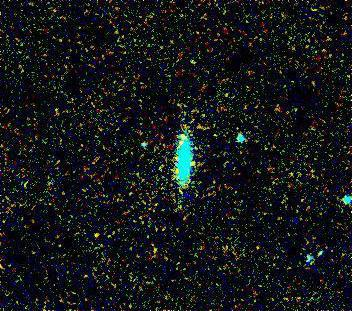star: (175, 153, 205, 183)
